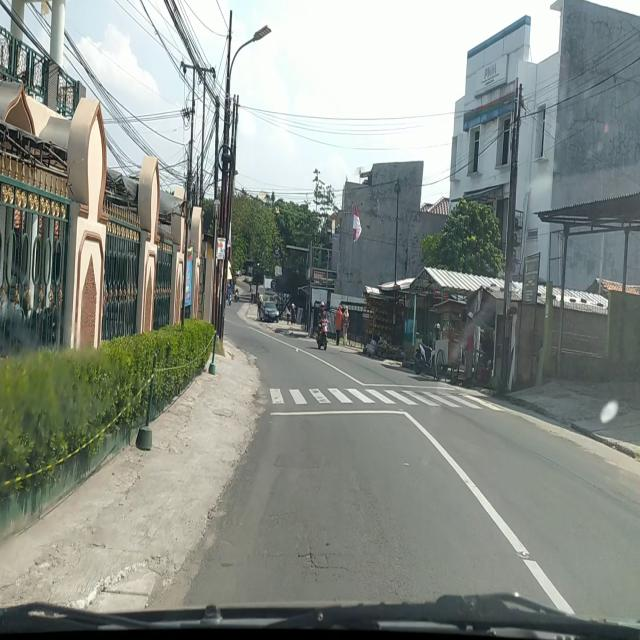Drain Hole: (290, 534, 344, 592)
